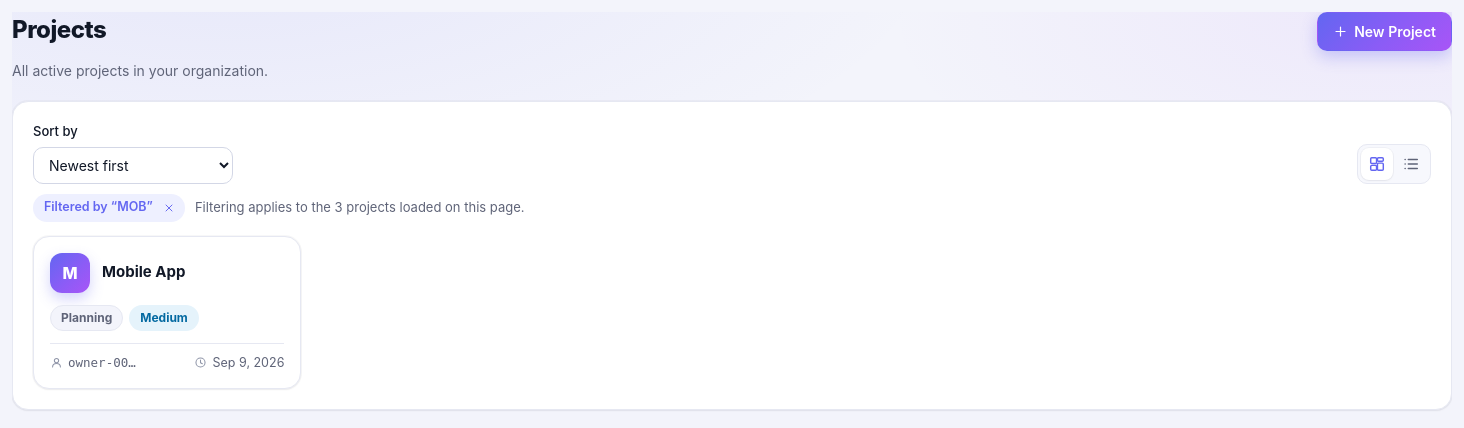
Test: ProjectsListPage › filters the loaded page by ?q= (case-insensitive) with a chip, an honest note, and clears it
Expected: the list named "Projects" is shown, [33, 236, 301, 389]
Expected: the number of links "Mobile App" is 1, [102, 261, 185, 284]
Click the button named "Clear filter".
click(169, 208)  # box [159, 198, 179, 218]
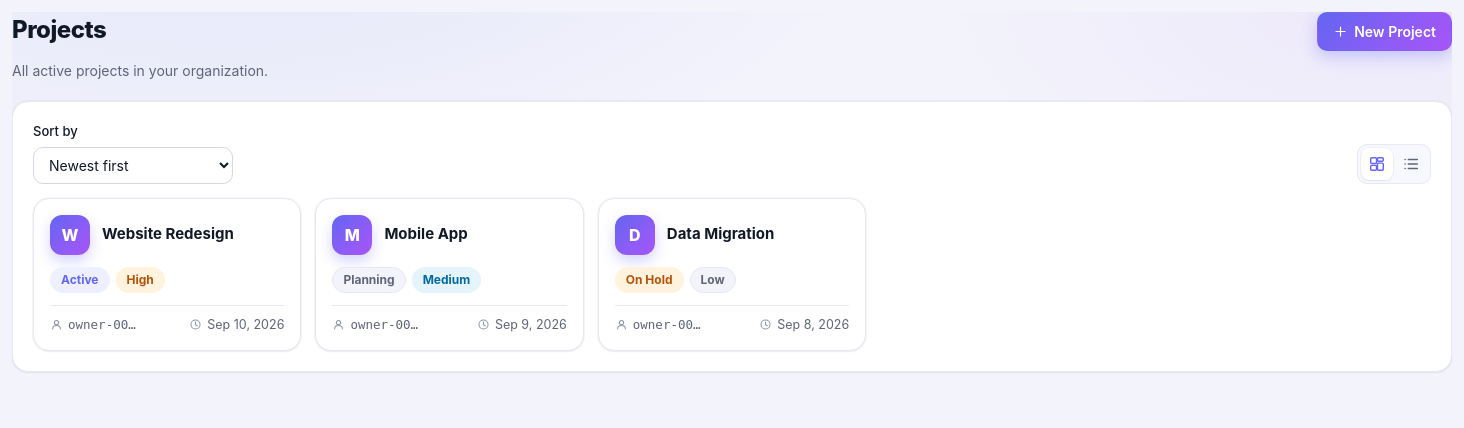
Expected: the text "Filtered by" is gone
Expected: the number of links "Website Redesign" is 3, [102, 223, 234, 246]; [384, 223, 468, 246]; [667, 223, 774, 246]
